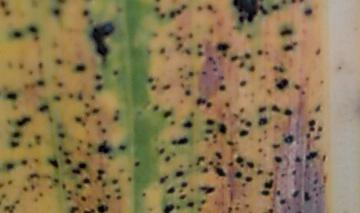tarspot: (91, 20, 115, 58), (233, 1, 258, 22), (98, 140, 111, 154), (16, 116, 31, 127), (200, 185, 215, 194), (74, 62, 86, 73), (276, 78, 288, 89), (216, 42, 229, 52), (5, 59, 15, 71), (28, 24, 39, 34), (38, 104, 49, 114), (48, 158, 59, 168), (258, 4, 268, 15), (215, 167, 226, 177), (6, 91, 18, 100), (280, 29, 293, 37), (219, 122, 227, 135), (284, 134, 294, 144), (10, 102, 20, 112), (93, 82, 104, 91), (195, 156, 206, 165), (306, 151, 318, 159), (271, 103, 281, 112), (264, 180, 274, 189), (164, 204, 174, 213), (77, 161, 88, 169), (177, 137, 188, 145), (259, 116, 267, 127), (303, 191, 311, 202), (29, 172, 40, 180), (35, 133, 42, 145), (163, 109, 172, 118), (174, 43, 183, 52), (205, 118, 214, 127), (284, 107, 293, 116), (93, 73, 103, 81), (182, 120, 192, 128), (292, 188, 300, 198), (98, 205, 108, 213), (53, 7, 60, 18), (36, 60, 44, 69), (53, 94, 62, 102), (162, 83, 171, 91), (238, 79, 247, 87), (197, 97, 206, 105), (258, 105, 267, 113), (304, 8, 313, 16), (167, 186, 175, 195), (13, 31, 23, 38), (12, 131, 22, 138), (238, 14, 245, 24), (159, 176, 169, 183), (71, 168, 81, 175), (152, 104, 160, 112), (206, 3, 214, 11), (167, 30, 175, 38), (230, 55, 238, 63), (205, 127, 213, 135), (247, 160, 255, 168), (234, 171, 242, 179), (215, 151, 223, 159), (151, 30, 159, 38), (23, 82, 31, 90), (270, 4, 279, 11), (284, 44, 293, 51), (272, 63, 279, 72), (307, 119, 316, 126), (272, 142, 281, 149), (261, 189, 270, 196), (186, 201, 195, 208), (175, 171, 184, 178), (71, 206, 80, 213), (116, 166, 125, 173), (78, 91, 84, 101), (112, 69, 120, 76), (11, 140, 19, 147), (57, 131, 65, 138), (83, 102, 91, 109), (92, 107, 100, 114), (149, 84, 157, 91), (196, 5, 204, 12), (184, 47, 191, 55), (164, 154, 171, 162), (243, 52, 251, 59), (293, 83, 301, 90), (83, 176, 91, 183), (116, 6, 124, 13), (240, 191, 248, 198), (83, 8, 89, 17), (7, 163, 16, 169), (314, 104, 320, 113), (240, 130, 249, 136), (4, 10, 11, 17), (55, 58, 62, 65), (84, 111, 91, 118), (154, 6, 161, 13), (169, 11, 176, 18), (187, 71, 194, 78), (184, 89, 191, 96), (133, 160, 140, 167), (238, 106, 245, 113), (232, 112, 239, 119), (203, 136, 210, 143), (274, 156, 281, 163), (76, 182, 83, 189), (33, 157, 40, 164), (45, 172, 52, 179), (1, 1, 7, 9), (37, 80, 45, 86), (68, 91, 74, 99), (118, 144, 126, 150), (57, 143, 63, 151), (21, 160, 29, 166), (196, 51, 204, 57), (218, 85, 226, 91), (239, 61, 245, 69), (249, 65, 255, 73), (257, 48, 263, 56), (208, 27, 214, 35), (245, 176, 253, 182), (236, 157, 244, 163), (199, 198, 207, 204), (81, 120, 87, 128), (74, 190, 80, 198), (159, 146, 164, 155), (85, 151, 92, 157), (76, 145, 82, 152), (147, 77, 154, 83), (160, 47, 166, 54), (175, 9, 182, 15), (180, 4, 187, 10), (177, 25, 183, 32), (188, 32, 194, 39), (207, 102, 213, 109), (315, 48, 321, 55), (246, 120, 252, 127), (240, 118, 246, 125), (228, 161, 235, 167), (226, 182, 232, 189), (202, 167, 209, 173), (179, 194, 186, 200), (181, 181, 188, 187), (188, 162, 194, 169), (127, 176, 133, 183), (112, 178, 119, 184), (98, 169, 105, 175), (96, 174, 102, 181), (54, 177, 60, 184), (48, 116, 54, 123), (14, 199, 21, 205), (78, 138, 84, 145), (304, 163, 311, 169), (52, 42, 59, 48), (149, 206, 155, 213), (227, 141, 235, 146), (272, 124, 280, 129), (313, 135, 321, 140), (322, 176, 327, 184), (276, 188, 281, 196), (257, 169, 262, 177), (62, 183, 67, 191), (34, 35, 40, 41), (18, 63, 24, 69), (28, 69, 34, 75), (6, 119, 12, 125), (113, 115, 119, 121), (65, 158, 71, 164), (201, 69, 207, 75), (178, 66, 184, 72), (222, 52, 228, 58), (300, 90, 306, 96), (305, 132, 311, 138), (212, 133, 218, 139), (258, 147, 264, 153), (304, 76, 310, 82), (296, 157, 302, 163), (268, 170, 274, 176), (313, 178, 319, 184), (216, 160, 222, 166), (179, 163, 185, 169), (146, 49, 152, 55), (116, 194, 122, 200), (101, 182, 107, 188), (96, 196, 102, 202), (81, 196, 87, 202), (1, 193, 7, 199), (4, 205, 10, 211), (27, 142, 33, 148), (179, 98, 185, 104), (33, 196, 39, 202), (58, 82, 63, 89), (90, 94, 95, 101), (97, 119, 102, 126), (246, 32, 251, 39), (180, 82, 185, 89), (225, 102, 230, 109), (279, 66, 284, 73), (259, 75, 266, 80), (292, 169, 297, 176), (114, 188, 121, 193), (7, 180, 14, 185), (172, 138, 176, 146), (56, 1, 66, 4), (76, 117, 82, 122), (102, 128, 107, 134), (87, 143, 93, 148), (63, 151, 69, 156), (159, 13, 165, 18), (176, 36, 182, 41), (219, 75, 225, 80), (265, 50, 270, 56), (267, 88, 272, 94), (318, 125, 323, 131), (293, 41, 298, 47), (258, 137, 263, 143), (221, 113, 227, 118), (280, 199, 286, 204), (213, 139, 219, 144), (244, 203, 250, 208), (197, 207, 203, 212), (189, 187, 195, 192), (178, 188, 184, 193), (141, 192, 147, 197), (48, 184, 53, 190), (38, 192, 44, 197), (31, 184, 36, 190), (23, 186, 28, 192), (10, 203, 15, 209), (262, 129, 268, 134), (207, 57, 214, 61), (228, 206, 232, 213), (108, 155, 113, 160), (170, 120, 175, 125), (197, 44, 202, 49), (281, 1, 286, 6), (310, 127, 315, 132), (312, 187, 317, 192), (234, 206, 239, 211), (209, 161, 214, 166), (115, 109, 120, 114), (106, 194, 111, 199), (90, 208, 95, 213), (212, 68, 218, 72), (191, 111, 195, 117), (337, 66, 343, 70), (287, 205, 291, 211), (177, 204, 181, 210), (84, 209, 90, 213), (67, 190, 73, 194), (66, 197, 72, 201), (289, 1, 296, 4), (179, 75, 184, 79), (320, 80, 324, 85), (315, 193, 320, 197), (269, 208, 273, 213), (9, 209, 14, 213), (323, 154, 326, 160), (1, 182, 4, 188), (282, 173, 285, 178), (240, 164, 245, 167), (298, 1, 305, 3), (243, 183, 246, 187), (156, 1, 160, 3)
